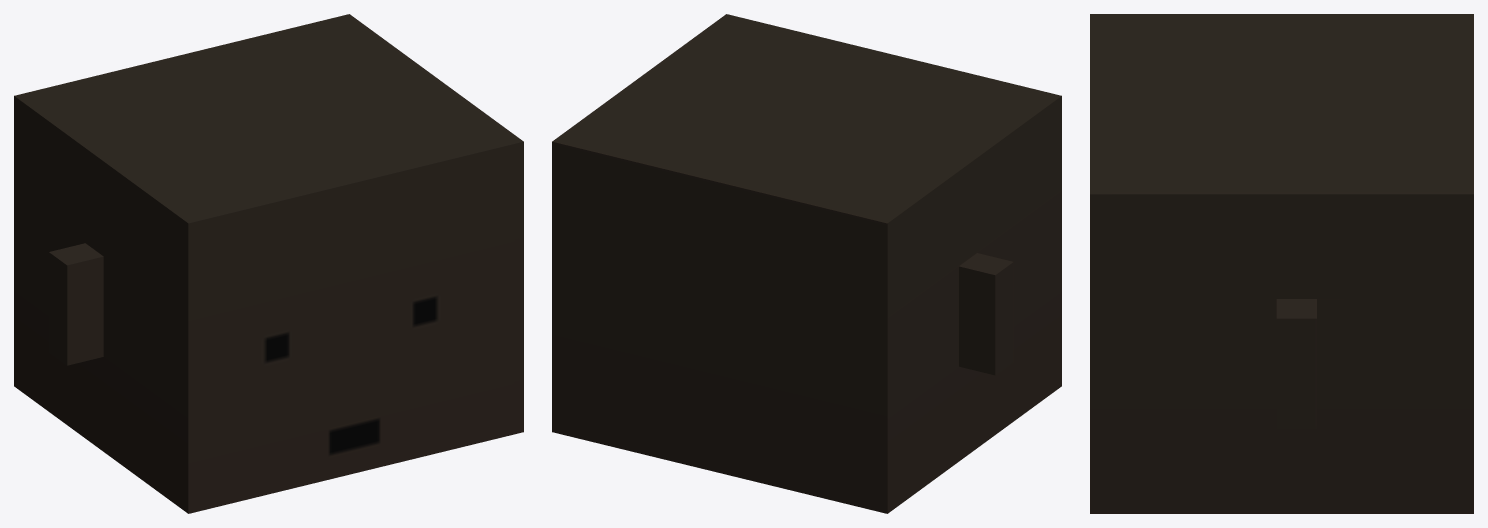
The model's file is Head001.fbx.
The picture shows the model from 3 angles, left to right: view 1: azimuth 30°, elevation 25°; view 2: azimuth 150°, elevation 25°; view 3: azimuth 270°, elevation 25°; orthographic projection. The views are drawn at different scales.
Parts seen in each view (by area): view 1: Head001; view 2: Head001; view 3: Head001.
Boxes of the visible parts, x1,y1,x2,y2 form: Head001: [14, 14, 523, 513]; Head001: [552, 14, 1061, 513]; Head001: [1090, 14, 1473, 513].
Size of the model in its own units: 17.05 by 11.59 by 12.61.
